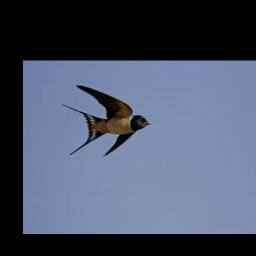Swallow: (61, 84, 150, 156)
